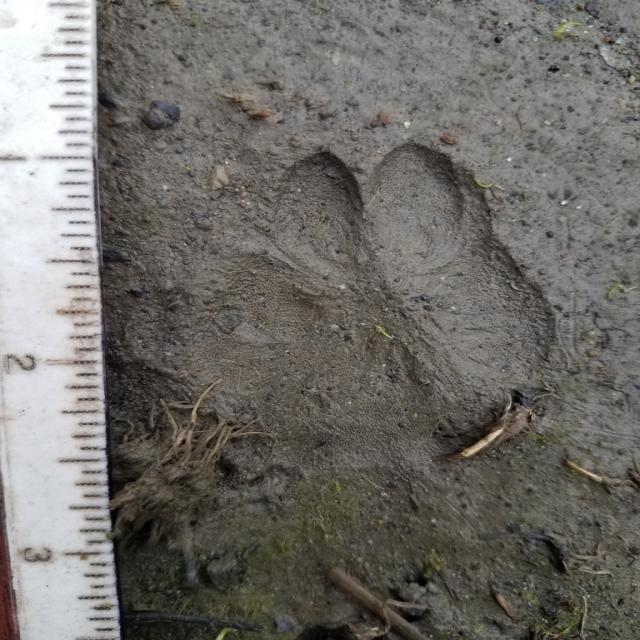canid: (213, 145, 555, 479)
